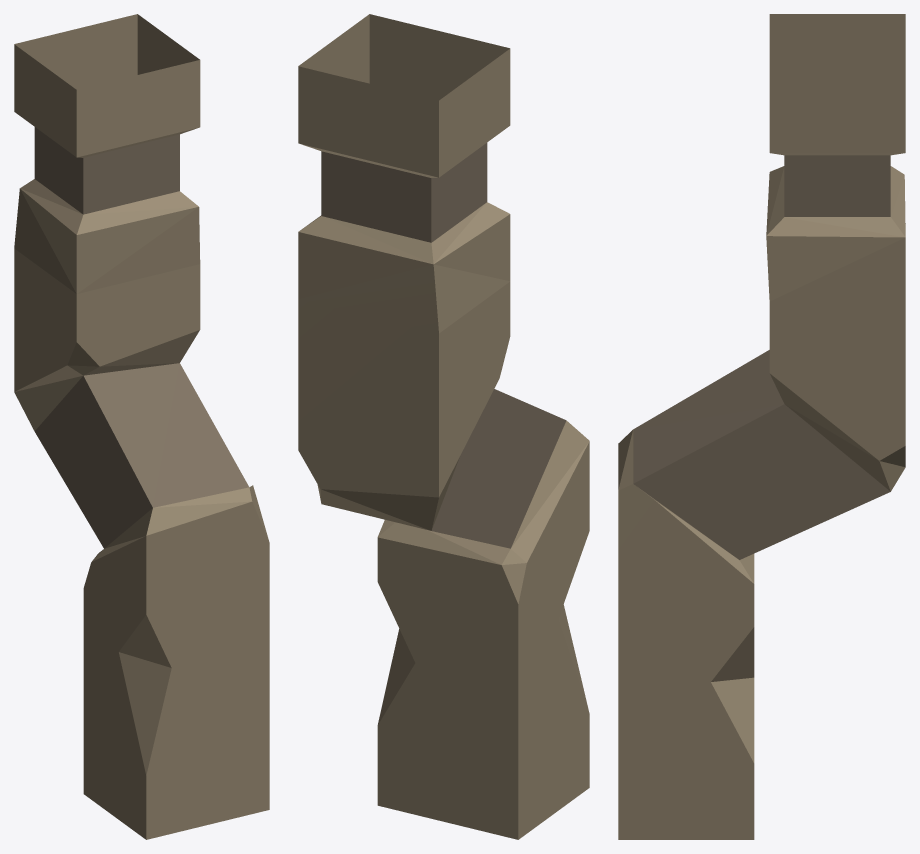
File: SM_Bld_House_Chimney_04.gltf
3 renders of one model, left to right at view 1: azimuth 30°, elevation 25°; view 2: azimuth 150°, elevation 25°; view 3: azimuth 270°, elevation 25°, orthographic. The views are drawn at different scales.
Visible parts, largest first — view 1: SM_Bld_House_Chimney_04; view 2: SM_Bld_House_Chimney_04; view 3: SM_Bld_House_Chimney_04.
Boxes of the visible parts, <box> form: SM_Bld_House_Chimney_04: <box>14,14,269,839</box>; SM_Bld_House_Chimney_04: <box>298,14,589,839</box>; SM_Bld_House_Chimney_04: <box>618,14,905,839</box>.
Size of the model in its own units: 0.851 by 4.6 by 1.58.
Materials: 1 (1 with a texture image).
